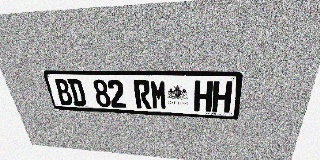2: (107, 79, 126, 108)
8: (92, 79, 111, 107)
B: (53, 79, 74, 105)
D: (67, 79, 87, 106)
H: (212, 81, 233, 113), (194, 81, 213, 112)
M: (150, 80, 167, 110)
R: (133, 80, 152, 109)
